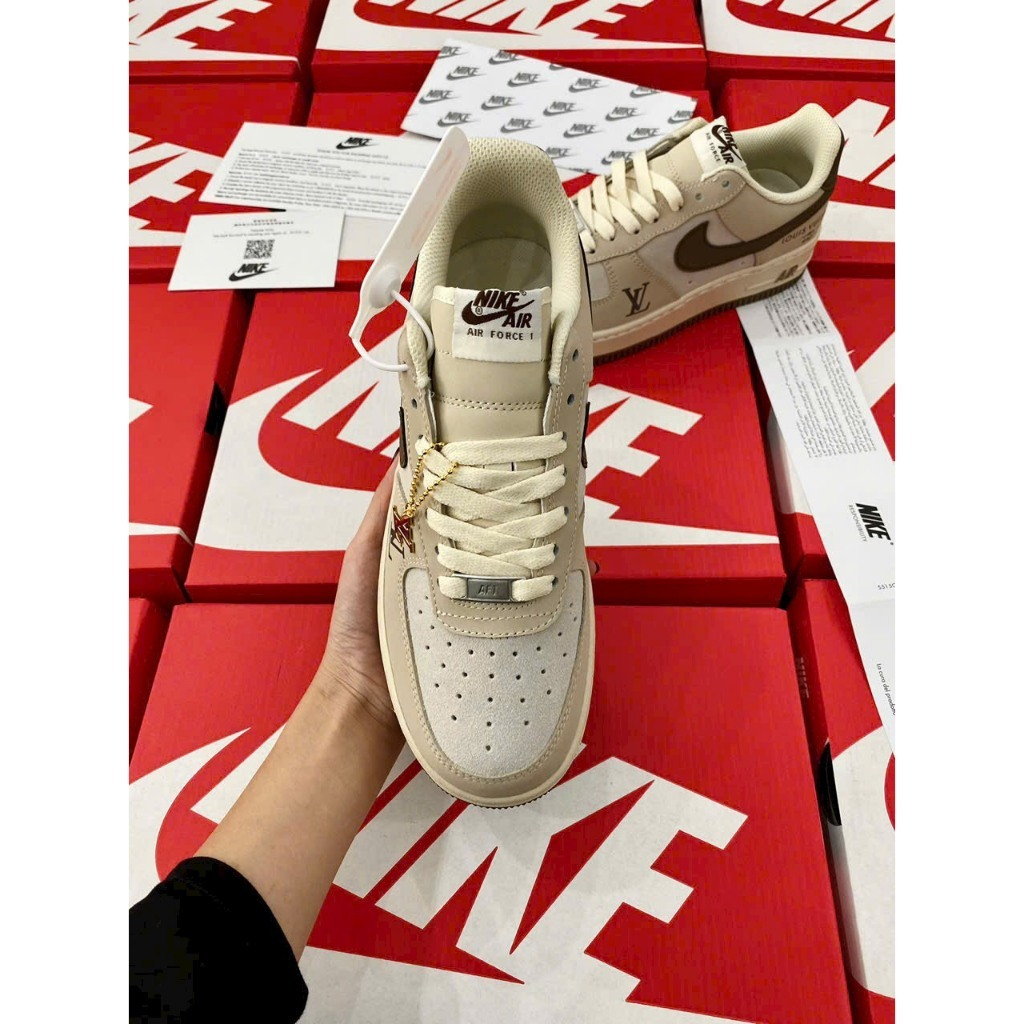sneakers: (376, 142, 600, 811), (568, 100, 843, 367)
